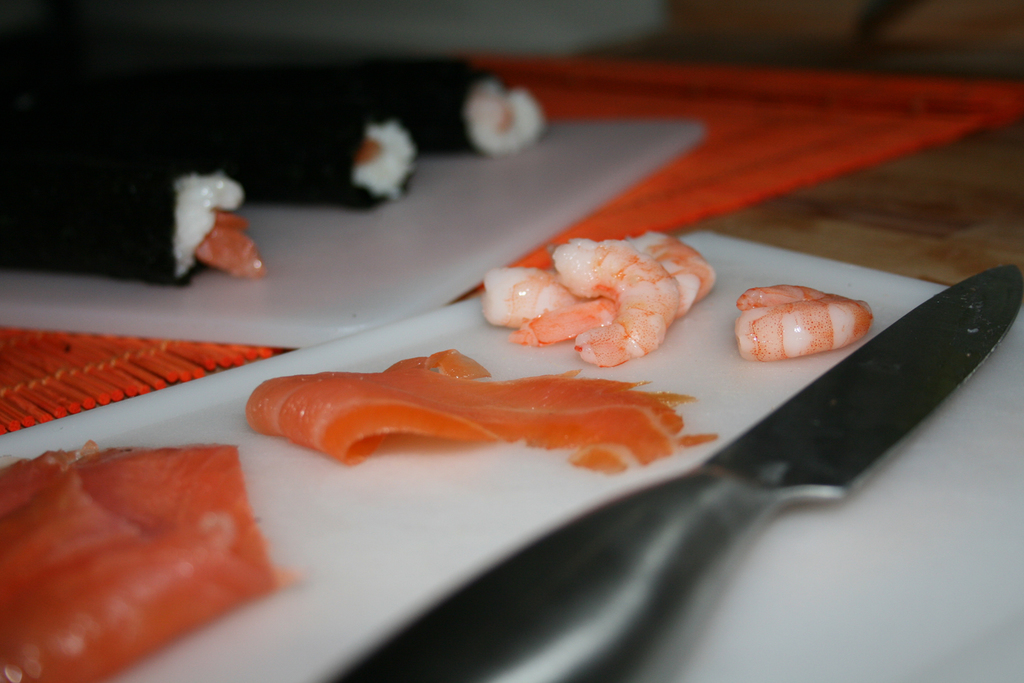sushi: (14, 66, 550, 163), (5, 145, 264, 288), (0, 122, 417, 208)
